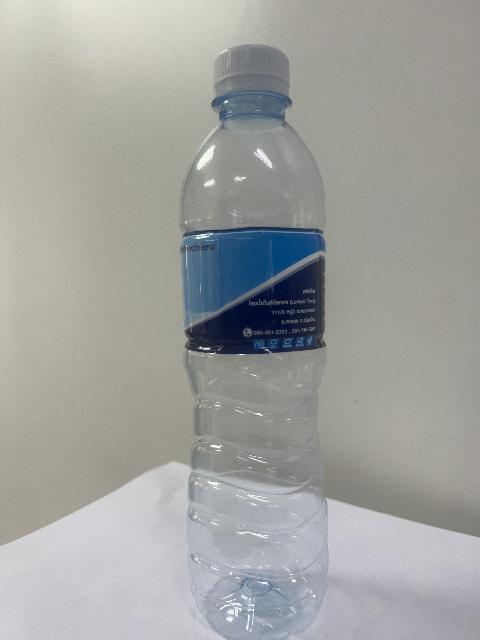bottle: (181, 45, 327, 639)
